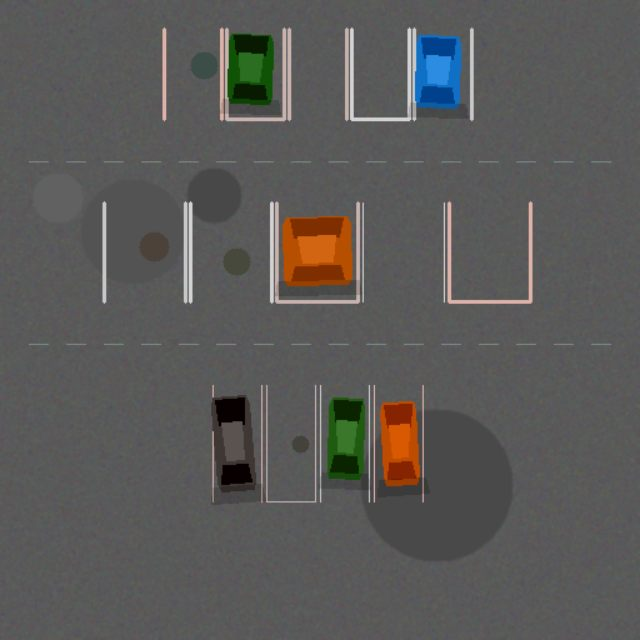space-empty: (104, 203, 185, 301), (190, 203, 271, 301), (363, 203, 444, 301), (449, 203, 530, 301), (266, 385, 315, 501), (351, 29, 409, 119), (164, 29, 221, 119), (289, 29, 346, 119)
space-occupied: (276, 203, 357, 301), (212, 385, 261, 501), (320, 385, 369, 501), (374, 385, 422, 501), (226, 29, 284, 119), (414, 29, 471, 119)
